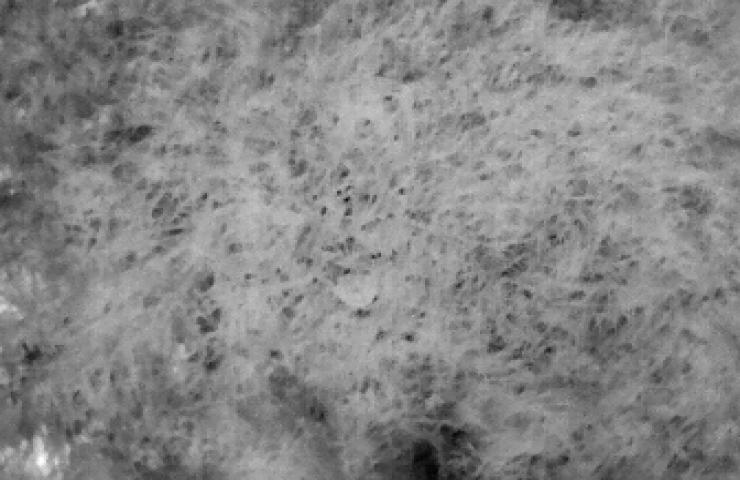landmines: (333, 269, 382, 312)
